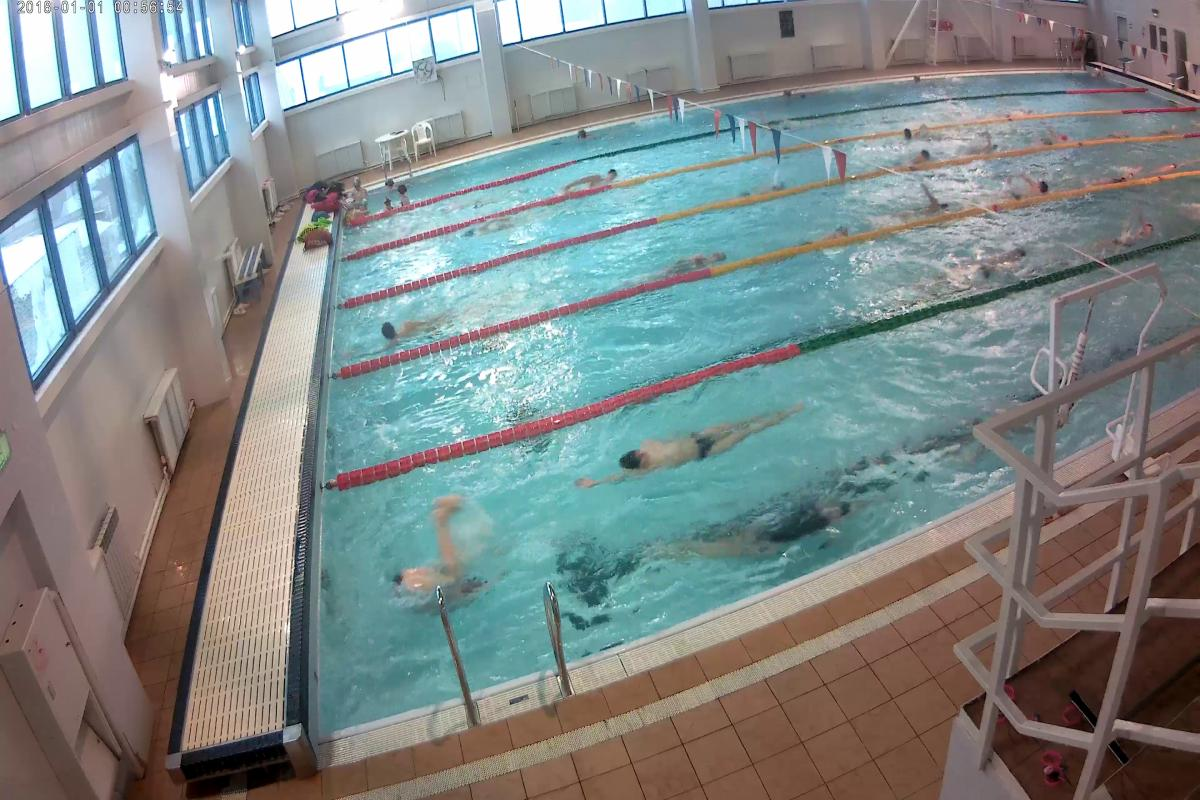swimmer: (581, 395, 814, 490), (662, 491, 868, 555), (392, 489, 496, 609), (360, 311, 442, 356), (965, 241, 1035, 281), (656, 248, 721, 279), (907, 180, 954, 217), (1008, 162, 1052, 199), (558, 165, 626, 188), (1112, 214, 1162, 244), (1096, 163, 1146, 183), (898, 148, 937, 164)
